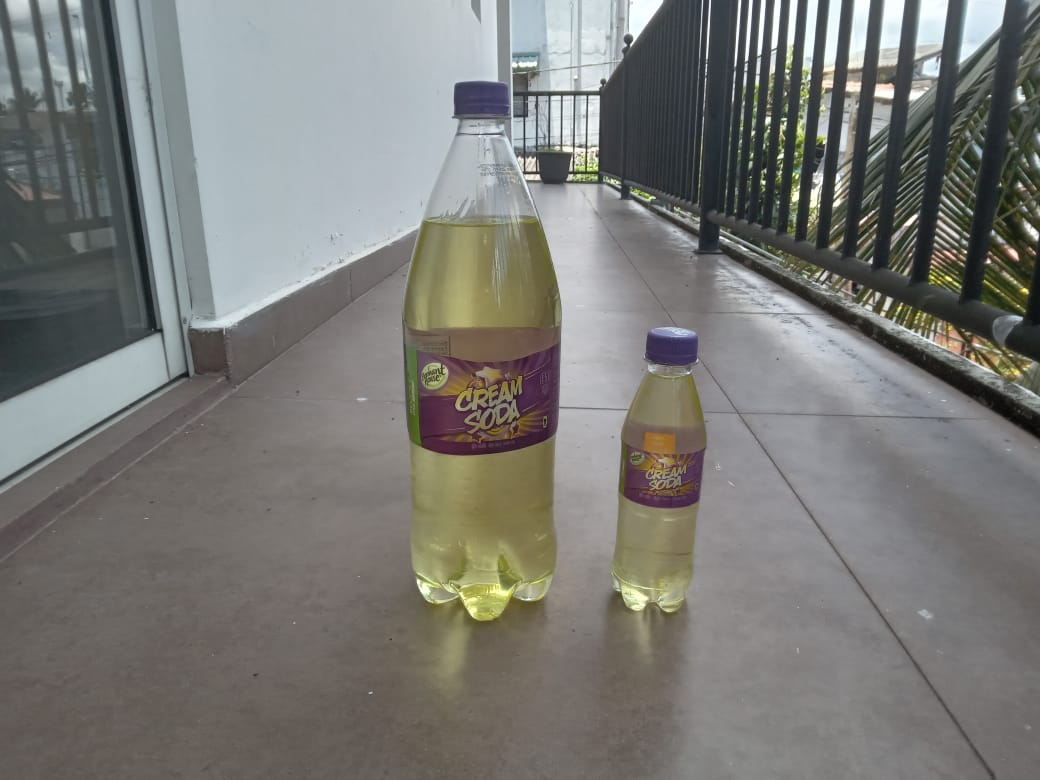L: (406, 82, 561, 625)
Xs: (611, 326, 707, 618)
